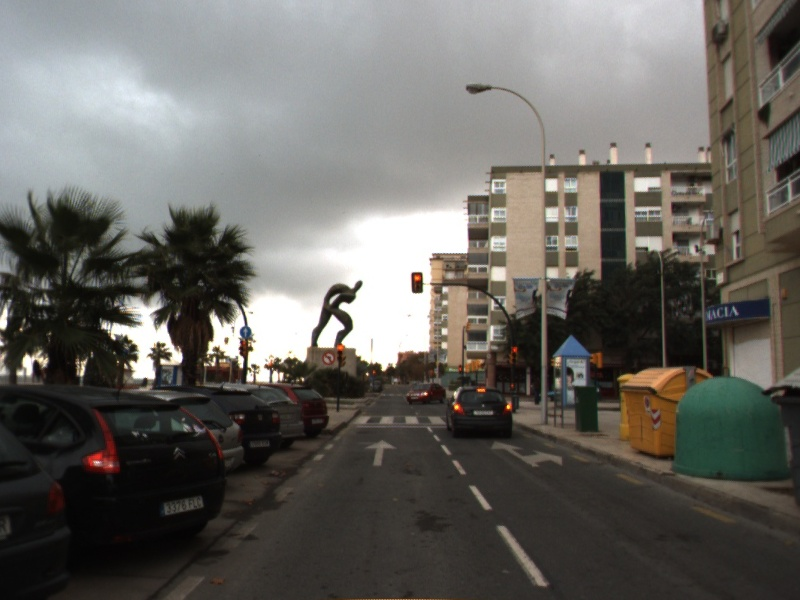STRAIGHT: (363, 438, 399, 467)
STRAIGHT_RIGHT: (489, 439, 564, 469)
